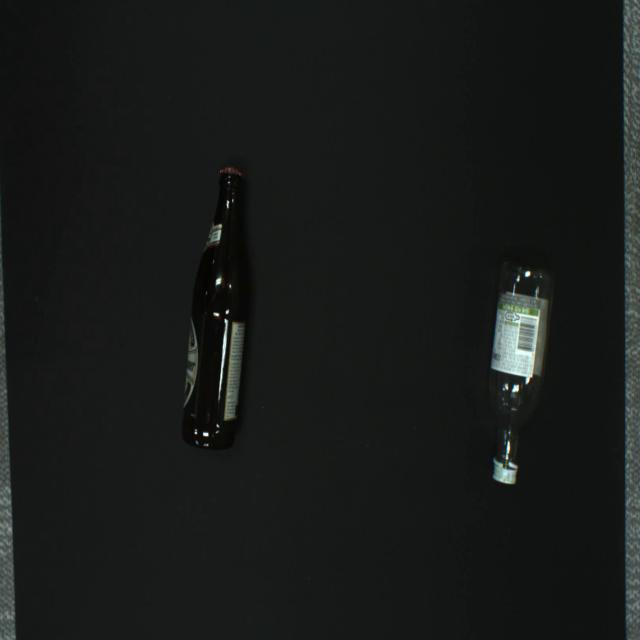beer-bottle: (182, 167, 249, 449)
soju-bottle: (488, 262, 554, 484)
